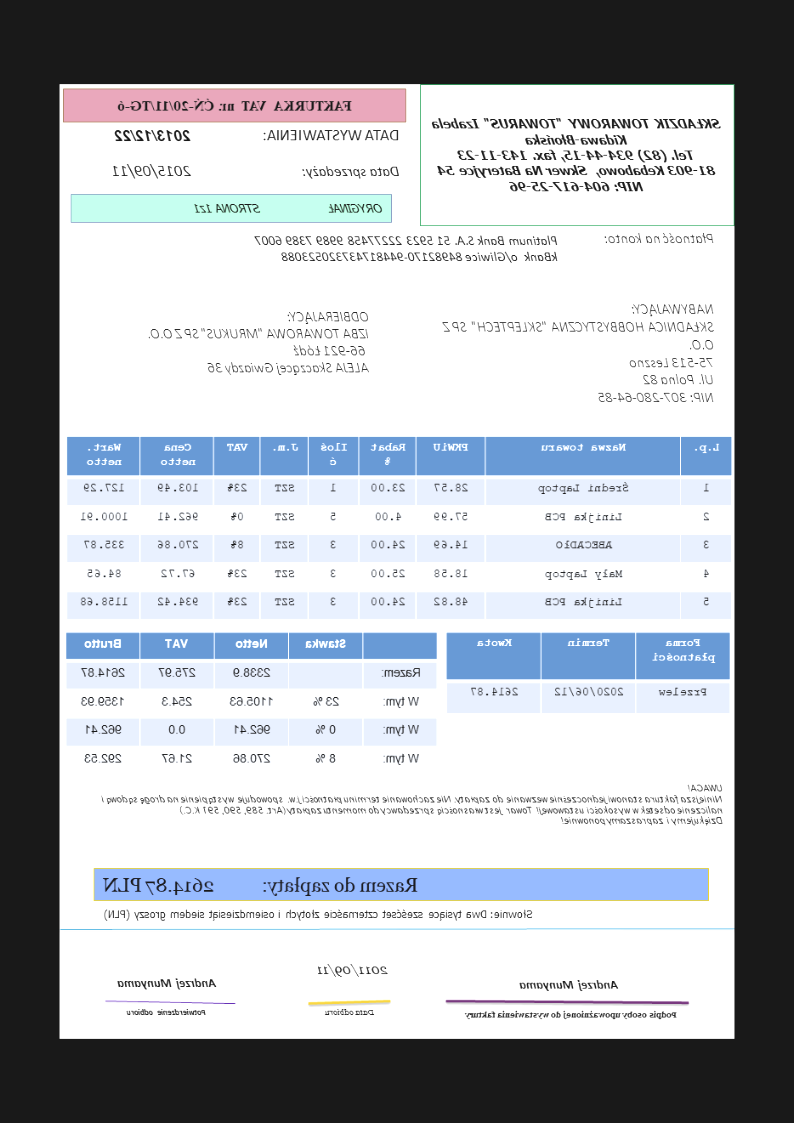Table: (65, 435, 734, 621), (64, 629, 440, 779), (445, 631, 732, 715)
TextBox: (439, 298, 717, 406), (96, 780, 725, 827), (427, 113, 723, 196), (146, 307, 372, 378), (252, 232, 561, 266), (102, 904, 536, 926), (101, 871, 420, 899), (116, 95, 356, 115), (192, 197, 385, 217), (264, 123, 403, 145), (463, 1008, 680, 1021), (300, 161, 402, 181), (604, 229, 717, 247), (514, 977, 623, 993), (111, 160, 194, 181), (116, 976, 218, 992), (112, 126, 194, 145), (315, 961, 392, 978), (126, 1006, 209, 1018), (322, 1005, 377, 1020)
